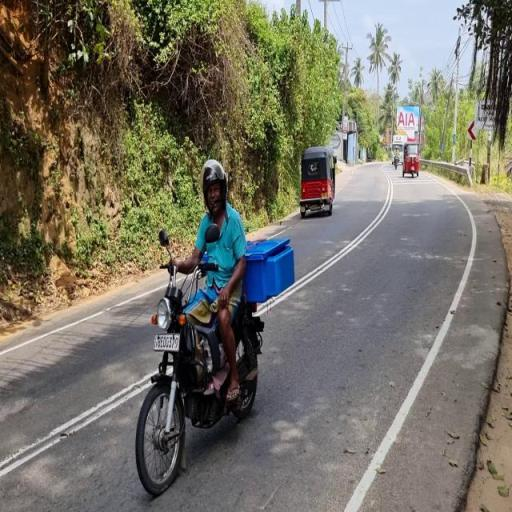double_white_line: (254, 172, 396, 314), (0, 366, 159, 480)
